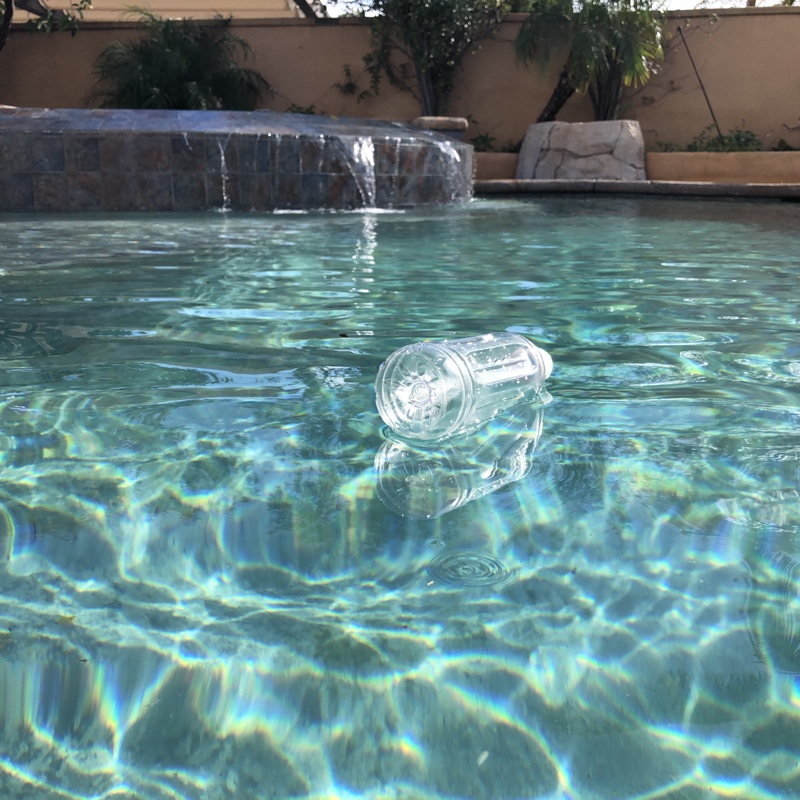Plastic Bottle: (372, 326, 558, 448)
